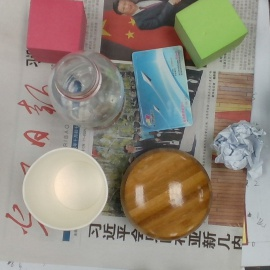bottle: (50, 50, 124, 130)
card: (133, 46, 194, 133)
chess: (121, 149, 211, 240)
cup: (22, 146, 108, 231)
